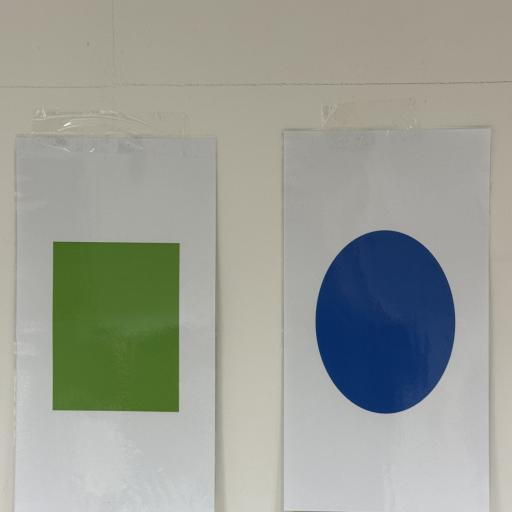blue_circle: (315, 231, 457, 410)
green_rectangle: (52, 243, 178, 413)
